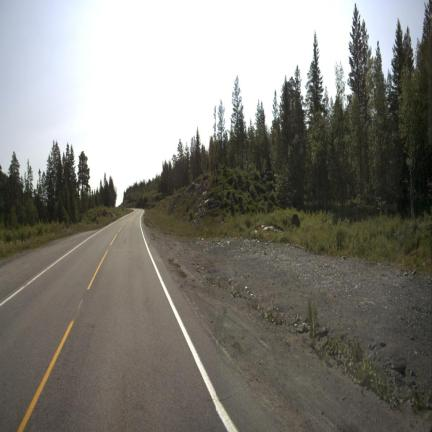Road: (0, 211, 277, 430)
